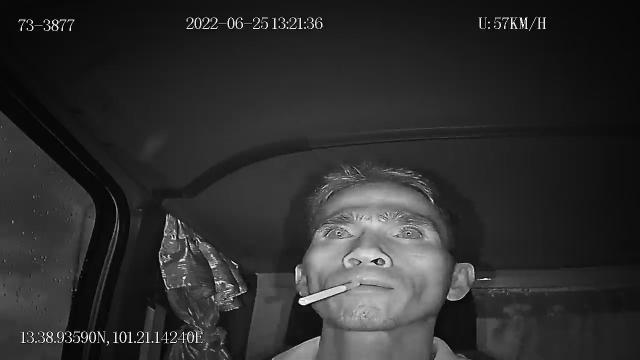SafeDriving: (386, 219, 431, 243), (316, 221, 356, 244)
Smoking: (298, 282, 360, 306)
